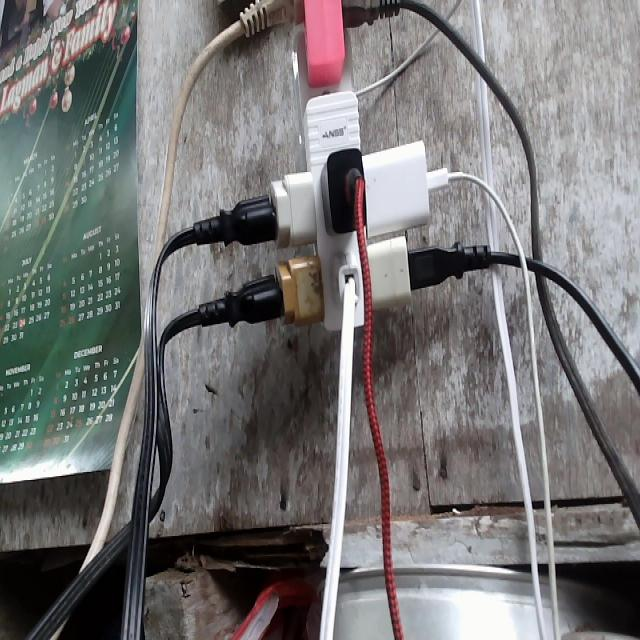-: (152, 0, 576, 360)
